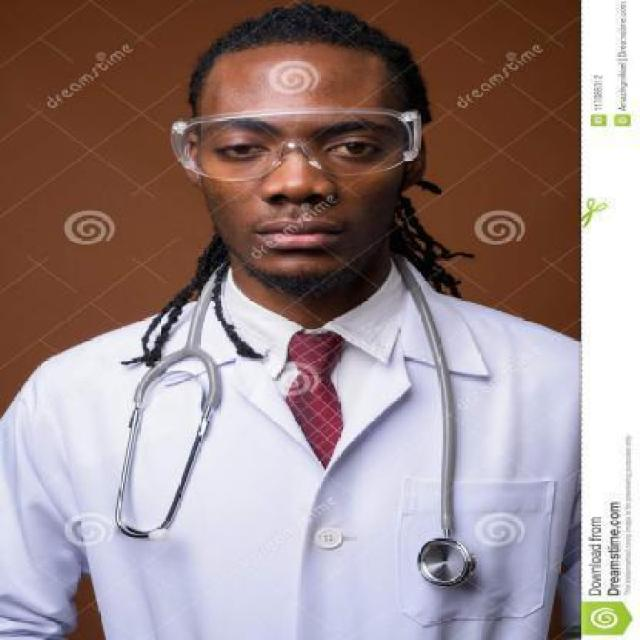face_nomask: (202, 119, 392, 266)
glasses: (170, 106, 424, 183)
head_nohelmet: (192, 10, 418, 76)
person: (0, 1, 583, 640)
